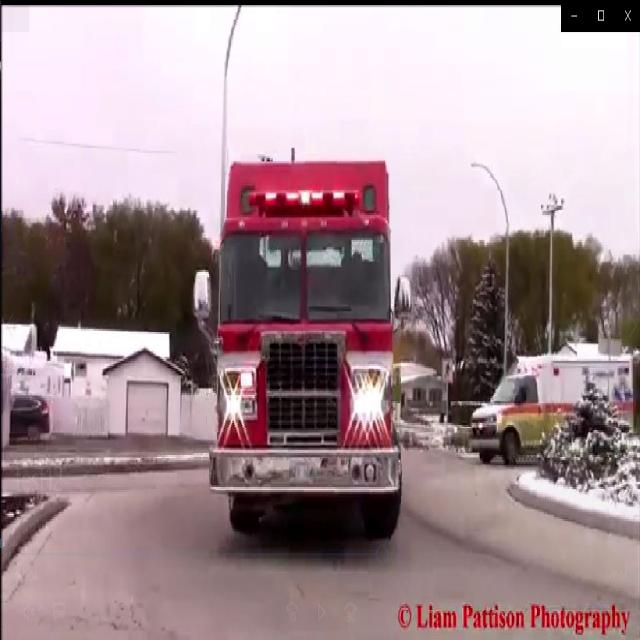emergency: (214, 158, 403, 530), (478, 353, 634, 453)
